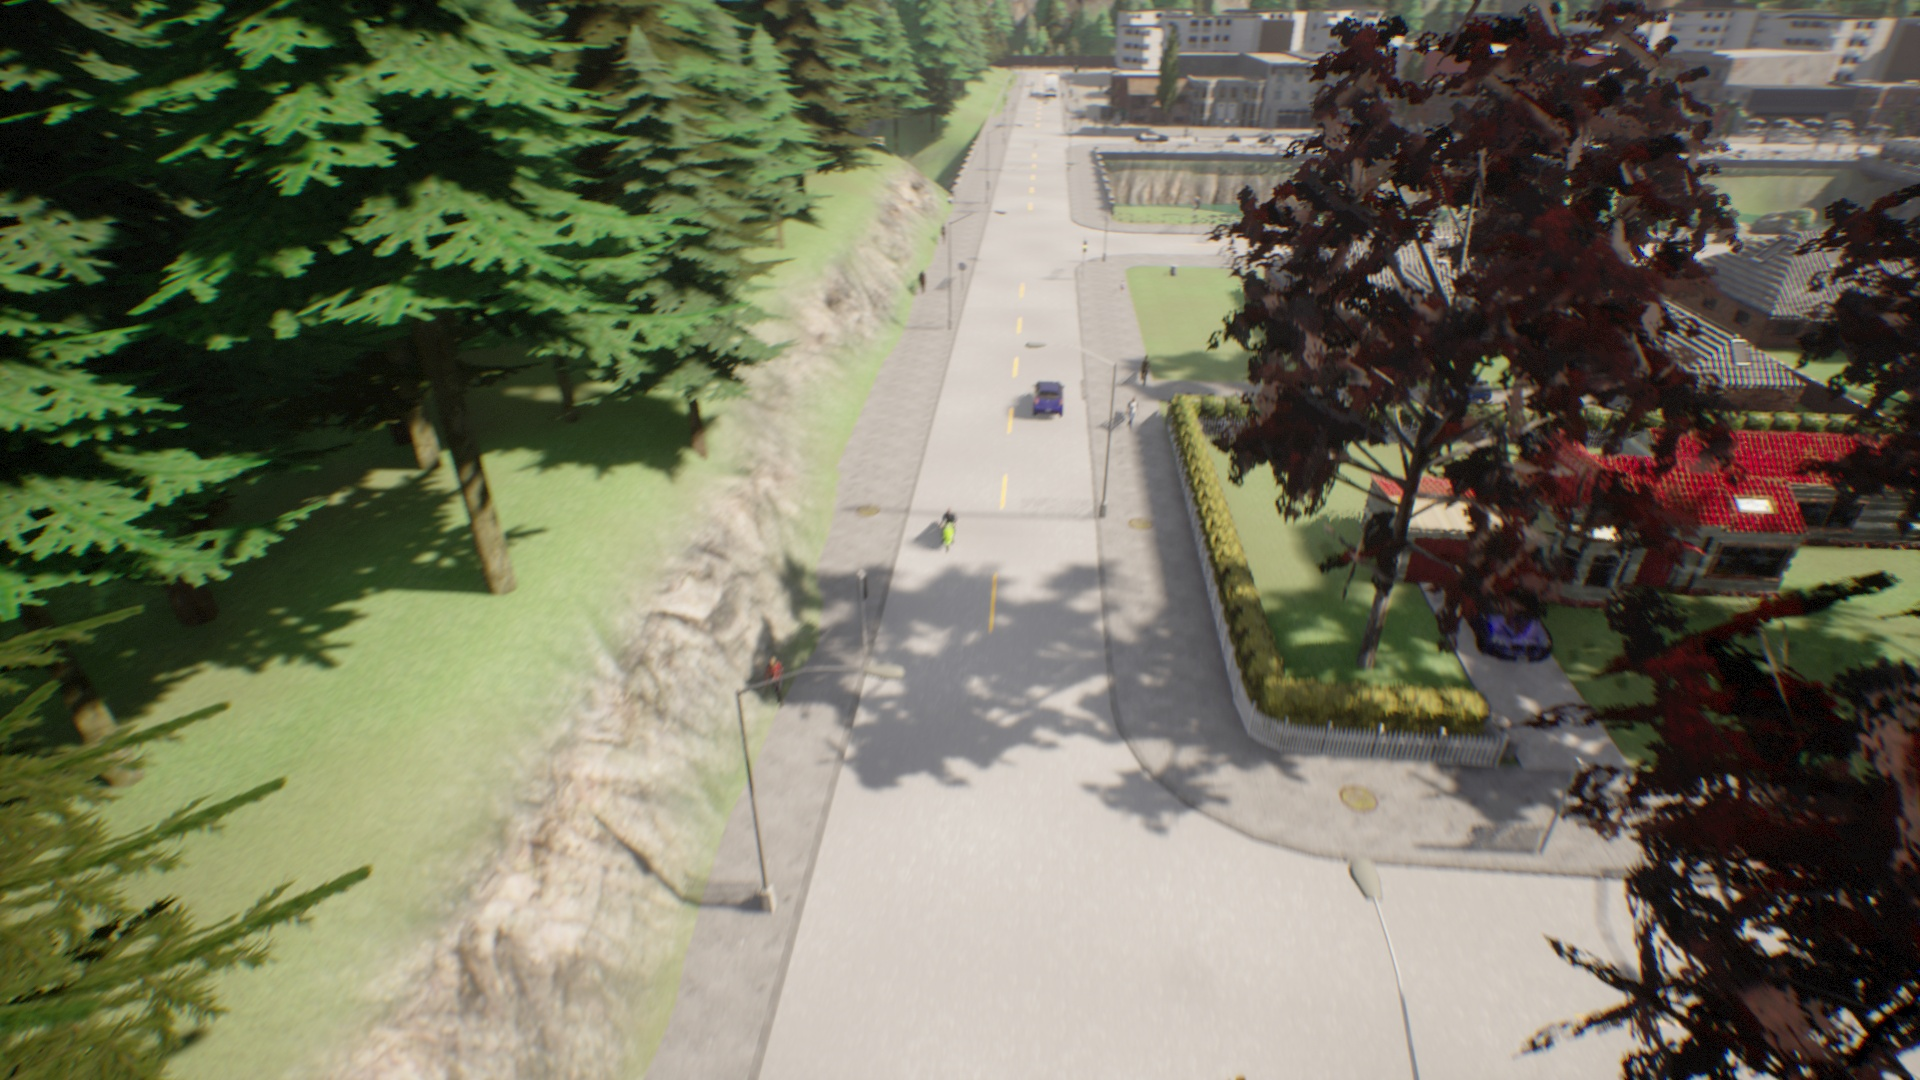Car: (1033, 371, 1068, 418), (1138, 131, 1174, 141)
Motorcycle: (936, 508, 964, 551), (1228, 136, 1242, 142)
Truck: (1040, 71, 1062, 107)
